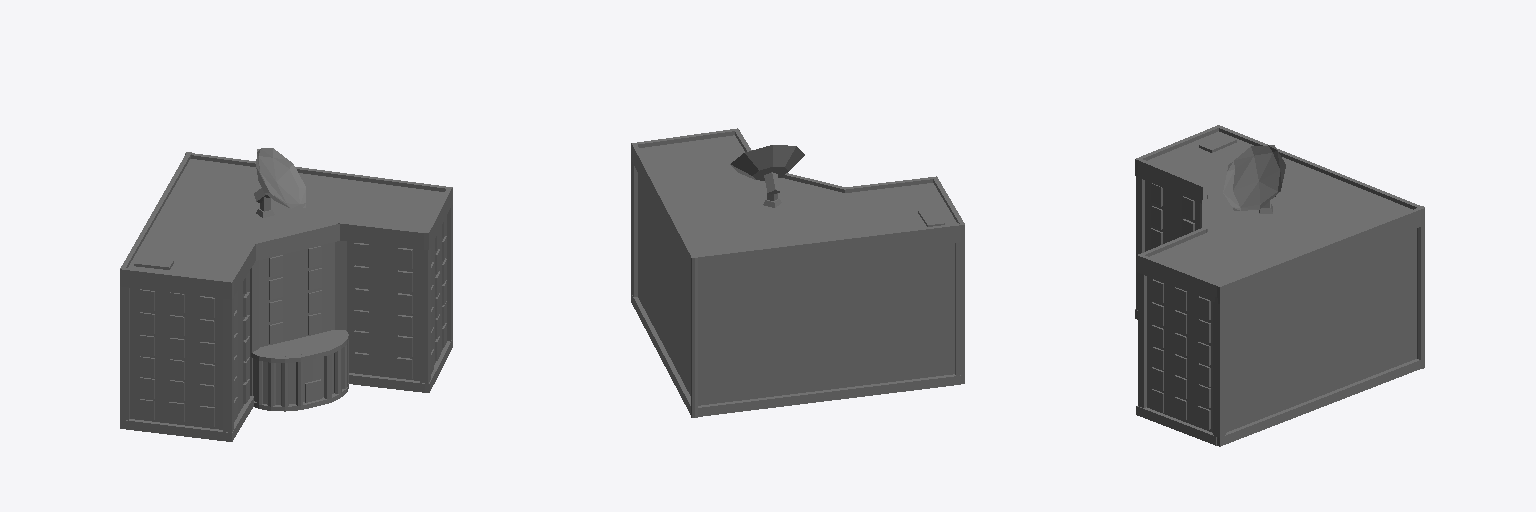
The model's file is BUILDING_01.obj.
3 renders of one model, left to right at view 1: azimuth 30°, elevation 25°; view 2: azimuth 150°, elevation 25°; view 3: azimuth 270°, elevation 25°, orthographic.
Parts seen in each view (by area): view 1: BUILDING_01:polySurface1; view 2: BUILDING_01:polySurface1; view 3: BUILDING_01:polySurface1.
Part boxes in pixels (bbox=[...]): BUILDING_01:polySurface1: bbox=[120, 148, 452, 441]; BUILDING_01:polySurface1: bbox=[631, 128, 964, 417]; BUILDING_01:polySurface1: bbox=[1135, 125, 1424, 446].
Bounding box in the file's own units: 16.9 × 10.64 × 12.74.